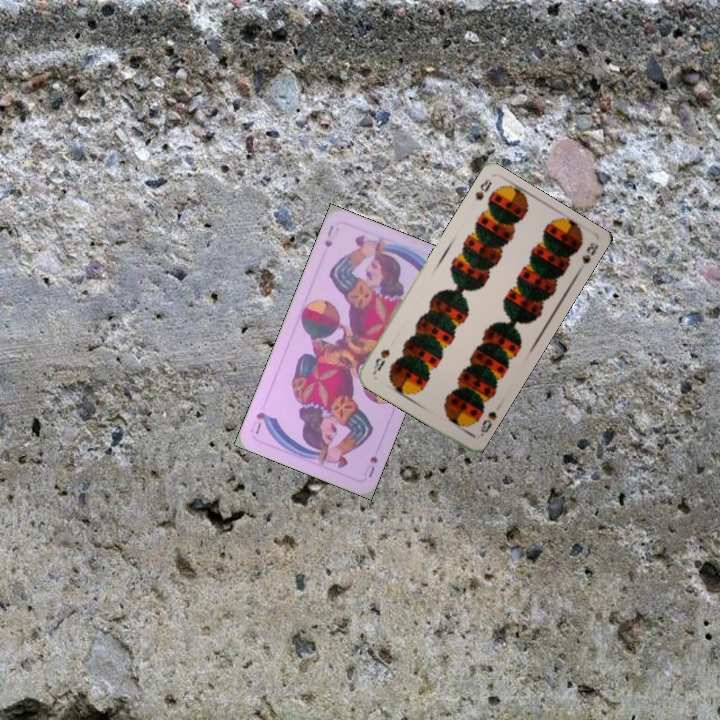S8: (476, 407, 499, 439), (471, 175, 494, 203)
SU: (359, 452, 380, 480), (320, 221, 336, 250)
